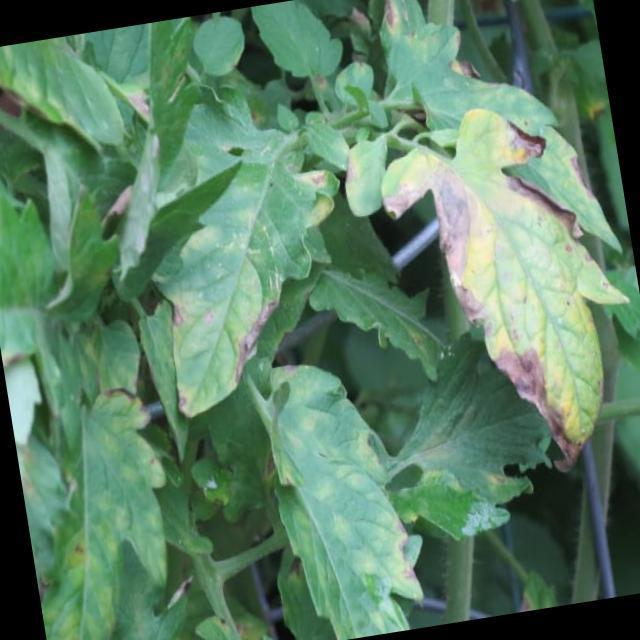Mosaic Virus: (263, 364, 401, 640), (21, 444, 179, 640)
